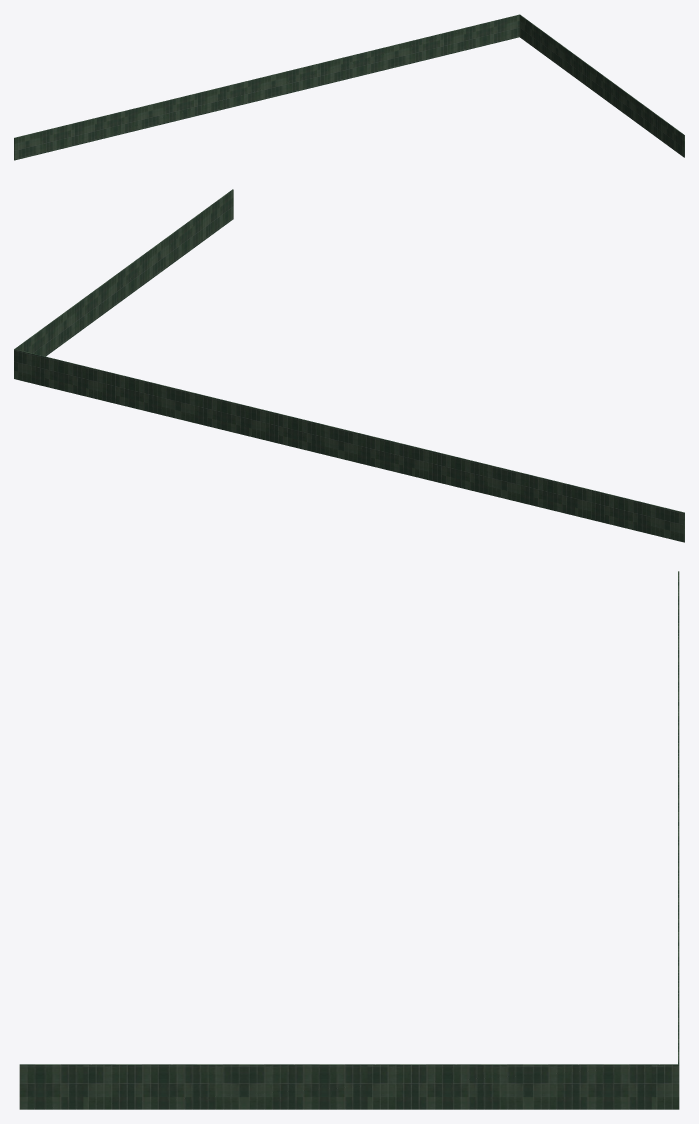
File: BP_Passion_Verde.glb
3 renders of one model, top to bottom at view 1: azimuth 30°, elevation 25°; view 2: azimuth 150°, elevation 25°; view 3: azimuth 270°, elevation 25°, orthographic. The views are drawn at different scales.
Visible parts, largest first — view 1: BKSPLASH_passion_verde.001; view 2: BKSPLASH_passion_verde.001; view 3: BKSPLASH_passion_verde.001.
Part boxes in pixels (x1,y1,x2,y2): BKSPLASH_passion_verde.001: [14, 14, 684, 160]; BKSPLASH_passion_verde.001: [14, 189, 684, 542]; BKSPLASH_passion_verde.001: [19, 571, 679, 1109].
Bounding box in the file's own units: 7.1 × 0.3 × 4.01.
Materials: 1 (1 with a texture image).
